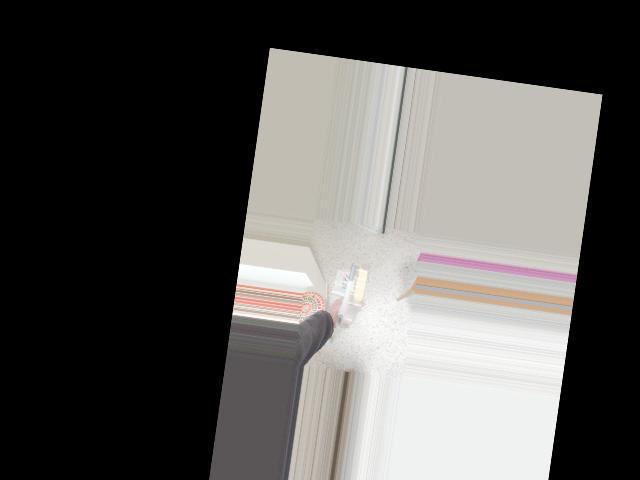cheese: (304, 258, 386, 319)
